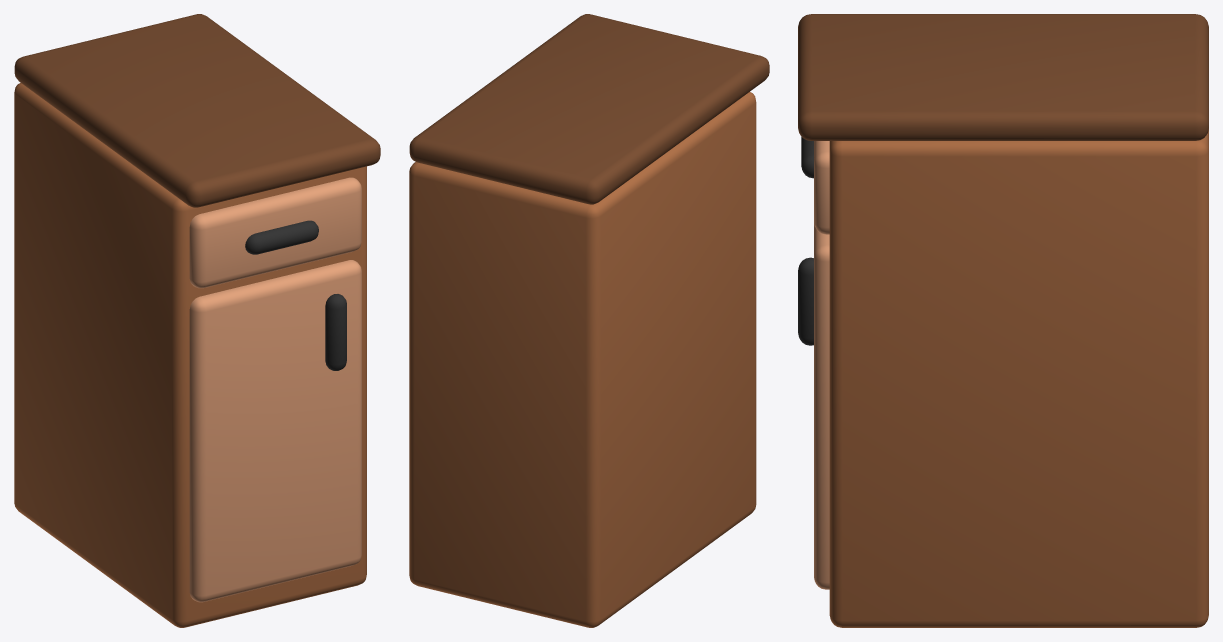
The model's file is tumba_40x60x85_1.glb.
3 views of the same model, side by side, from view 1: azimuth 30°, elevation 25°; view 2: azimuth 150°, elevation 25°; view 3: azimuth 270°, elevation 25° (orthographic). The views are drawn at different scales.
Visible parts, largest first — view 1: Cube; view 2: Cube; view 3: Cube.
Boxes of the visible parts, x1=… form: Cube: x1=14, y1=14, x2=380, y2=627; Cube: x1=409, y1=14, x2=769, y2=627; Cube: x1=798, y1=14, x2=1208, y2=627.
Size of the model in its own units: 0.4 by 0.9 by 0.65.
